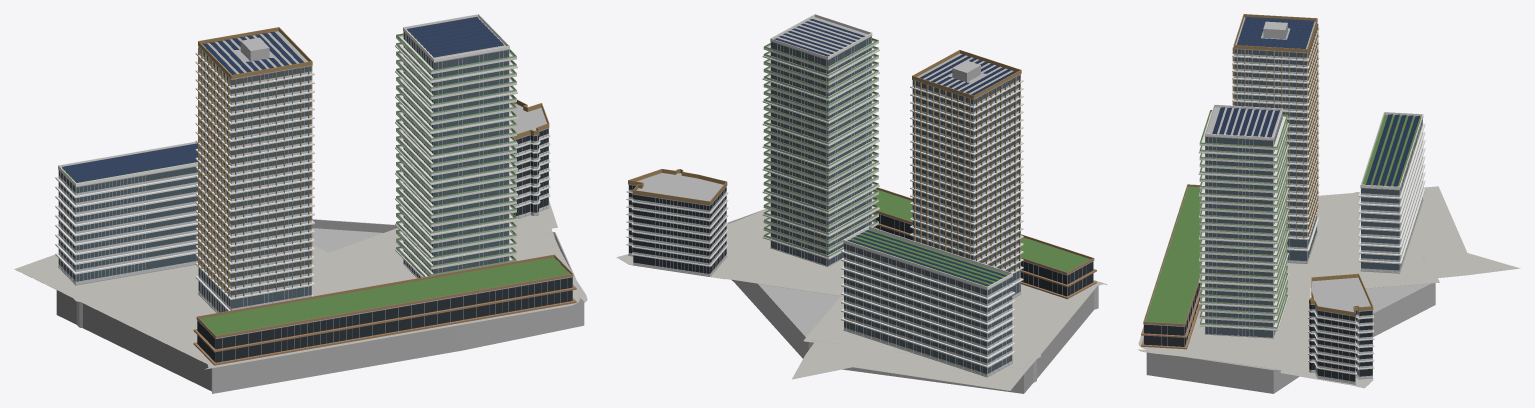
3 renders of one model, left to right at view 1: azimuth 30°, elevation 25°; view 2: azimuth 150°, elevation 25°; view 3: azimuth 270°, elevation 25°, orthographic. The views are drawn at different scales.
Parts seen in each view (by area): view 1: Site, P green roof, P-GF curtain wall, P-L curtain wall, O PV array, P parapet, T PV array, U-B1 ext wall 5, U-B2 ext wall 5, U-B3 slab, U-B3 ext wall 5, H PV array (+31 smaller); view 2: Site, U-B3 slab, P green roof, O green roof, O PV array, E roof slab, T roof slab, T PV array, O parapet, H PV array, H roof slab, O-GF curtain wall (+62 smaller); view 3: Site, P green roof, O PV array, H PV array, E roof slab, T PV array, O green roof, U-B3 slab, U-B3 ext wall 7, U-B2 ext wall 7, U-B1 ext wall 7, T roof slab (+15 smaller).
Part boxes in pixels (x1,y1,x2,y2): Site: [14, 200, 587, 369]; P green roof: [200, 257, 569, 335]; P-GF curtain wall: [197, 290, 572, 362]; P-L curtain wall: [197, 277, 572, 349]; O PV array: [62, 143, 197, 182]; P parapet: [196, 254, 573, 338]; T PV array: [407, 17, 503, 57]; U-B1 ext wall 5: [212, 341, 462, 392]; U-B2 ext wall 5: [212, 332, 462, 383]; U-B3 slab: [57, 228, 584, 375]; U-B3 ext wall 5: [212, 325, 462, 374]; H PV array: [202, 32, 304, 74]; Site: [616, 209, 1107, 390]; U-B3 slab: [749, 282, 1098, 377]; P green roof: [874, 189, 1090, 272]; O green roof: [848, 229, 1008, 286]; O PV array: [847, 230, 1006, 286]; E roof slab: [628, 173, 727, 205]; T roof slab: [770, 17, 871, 60]; T PV array: [774, 19, 864, 56]; O parapet: [843, 226, 1012, 289]; H PV array: [920, 54, 1016, 95]; H roof slab: [912, 53, 1021, 99]; O-GF curtain wall: [844, 321, 1011, 373]; Site: [1138, 186, 1520, 388]; P green roof: [1145, 186, 1200, 323]; O PV array: [1366, 114, 1419, 186]; H PV array: [1237, 17, 1314, 48]; E roof slab: [1309, 277, 1373, 316]; T PV array: [1212, 107, 1279, 137]; O green roof: [1362, 114, 1421, 186]; U-B3 slab: [1147, 283, 1435, 377]; U-B3 ext wall 7: [1146, 351, 1273, 377]; U-B2 ext wall 7: [1146, 359, 1273, 385]; U-B1 ext wall 7: [1146, 367, 1273, 393]; T roof slab: [1204, 107, 1282, 140].
Size of the model in its own units: 192 by 108 by 154.
